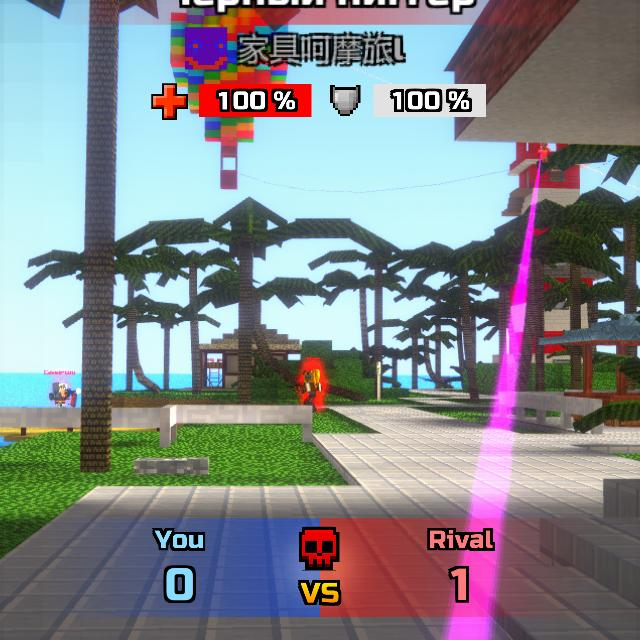Enemy: (300, 370, 322, 408), (54, 380, 72, 406)
